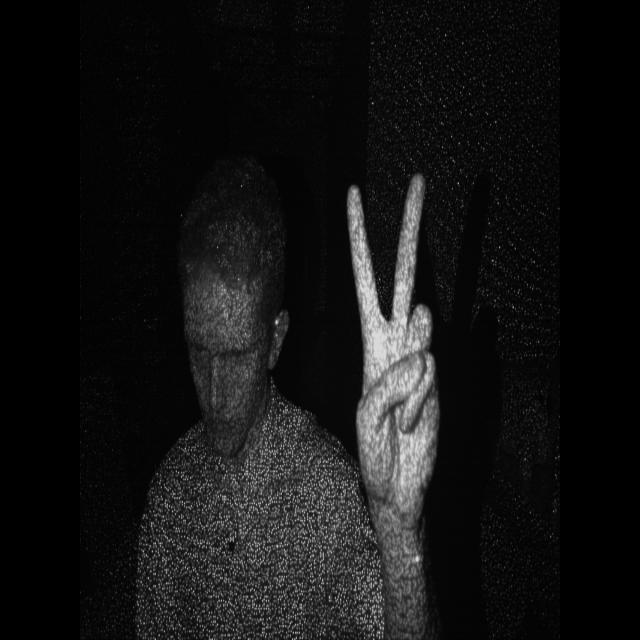V: (328, 150, 456, 516)
